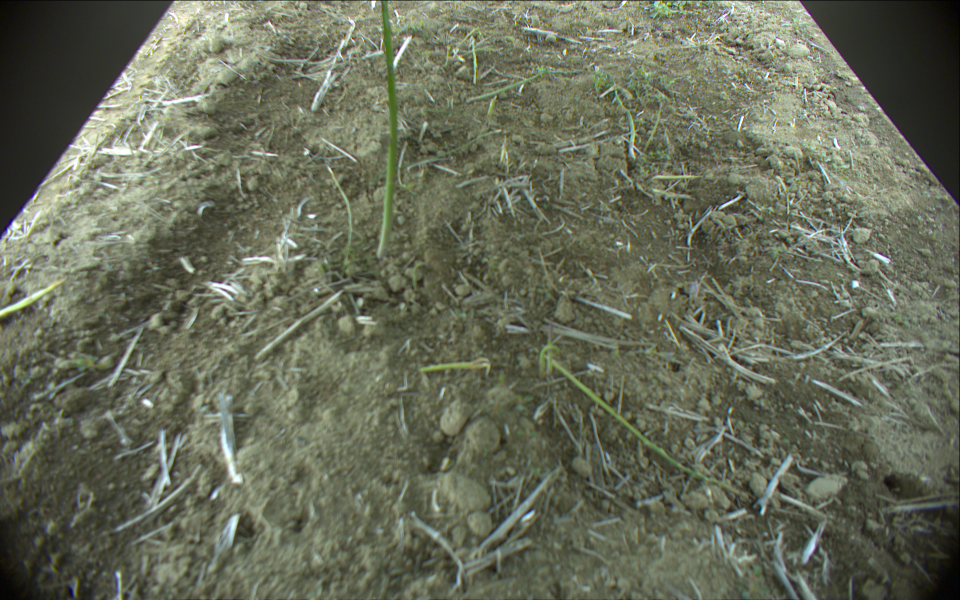aspa: (540, 348, 754, 503), (374, 1, 397, 259), (461, 71, 546, 102), (1, 277, 64, 317), (610, 78, 638, 158), (417, 358, 492, 375), (644, 102, 663, 153), (544, 319, 557, 374), (468, 35, 479, 84)
